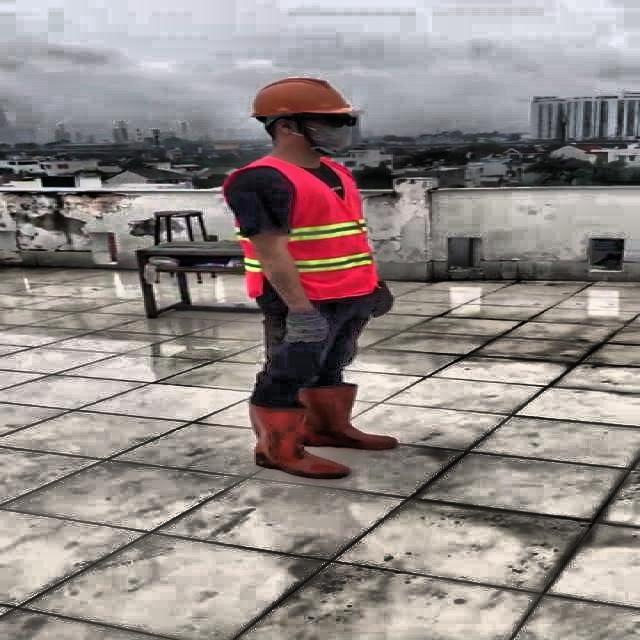safety_jacket: (220, 153, 377, 299)
